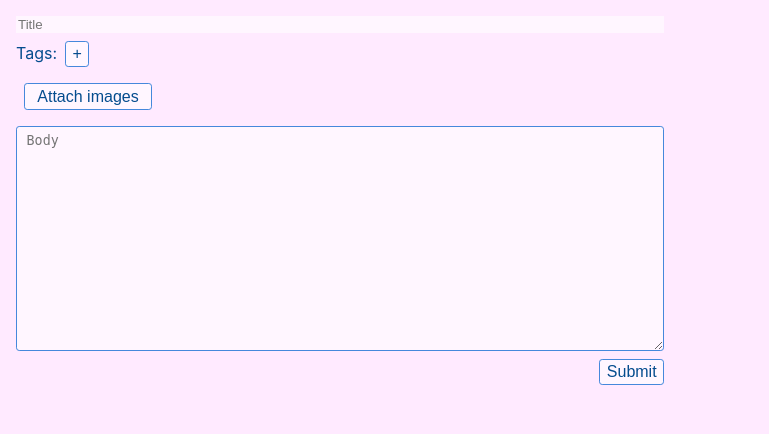
title is required
Type "text" into the field with placeholder "Title" at (340,24), box [16,16,664,33]
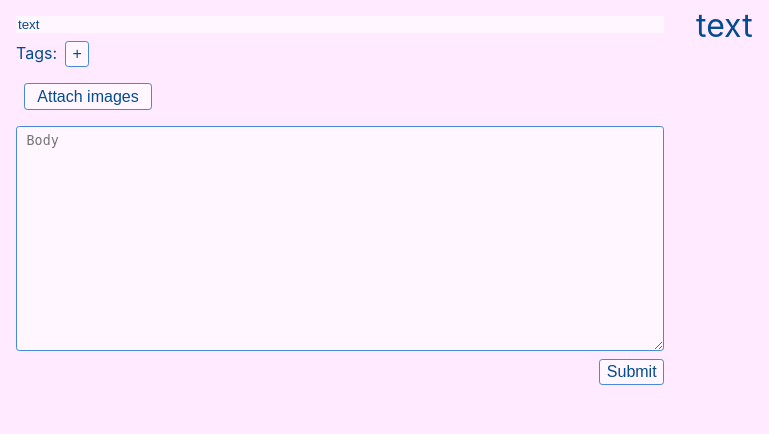
Clear the field at (340,24), box [16,16,664,33]
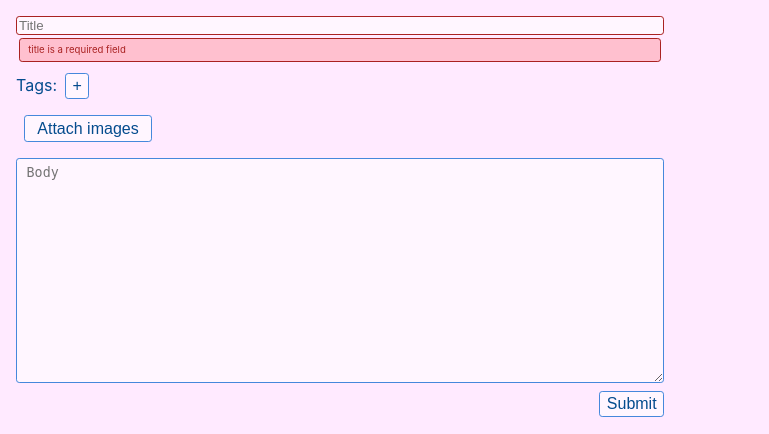
Expected: the message "title is a required field" is shown, [19,38,661,62]
